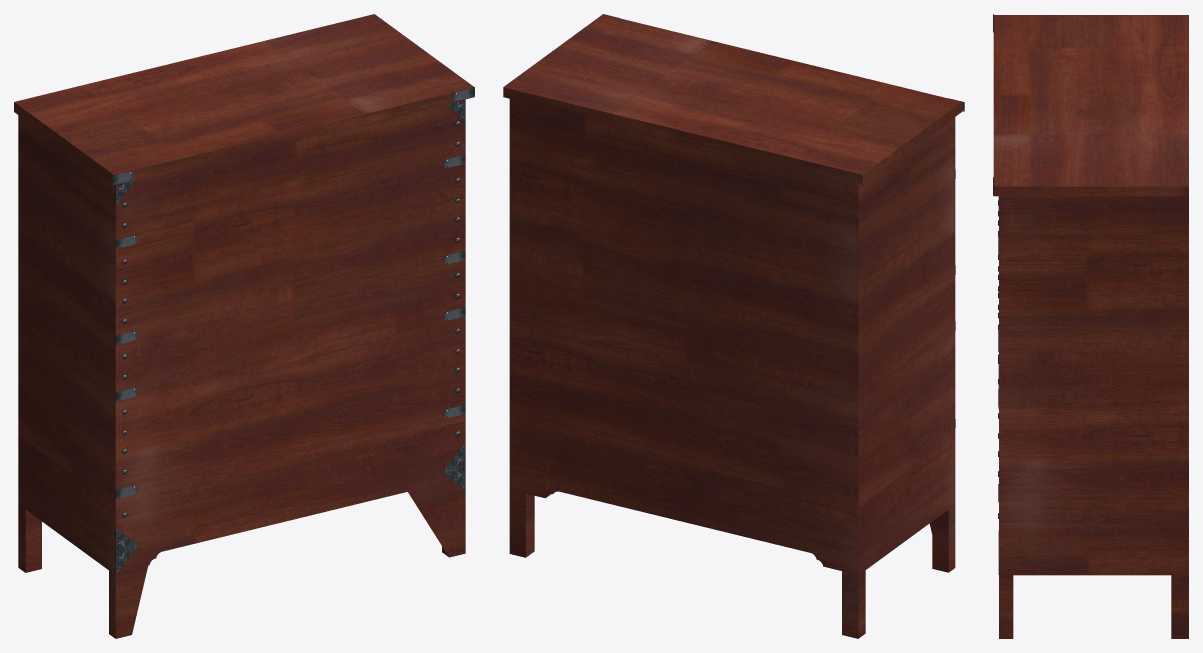
File: 장식장 4.FBX
The picture shows the model from 3 angles, left to right: view 1: azimuth 30°, elevation 25°; view 2: azimuth 150°, elevation 25°; view 3: azimuth 270°, elevation 25°; orthographic projection. The views are drawn at different scales.
Visible parts, largest first — view 1: 장식장 4; view 2: 장식장 4; view 3: 장식장 4.
Boxes of the visible parts, box(x1,y1,x2,y2) form: 장식장 4: box(14, 14, 474, 638); 장식장 4: box(503, 14, 964, 638); 장식장 4: box(993, 14, 1188, 638).
Bounding box in the file's own units: 43.24 × 53.17 × 20.72.
